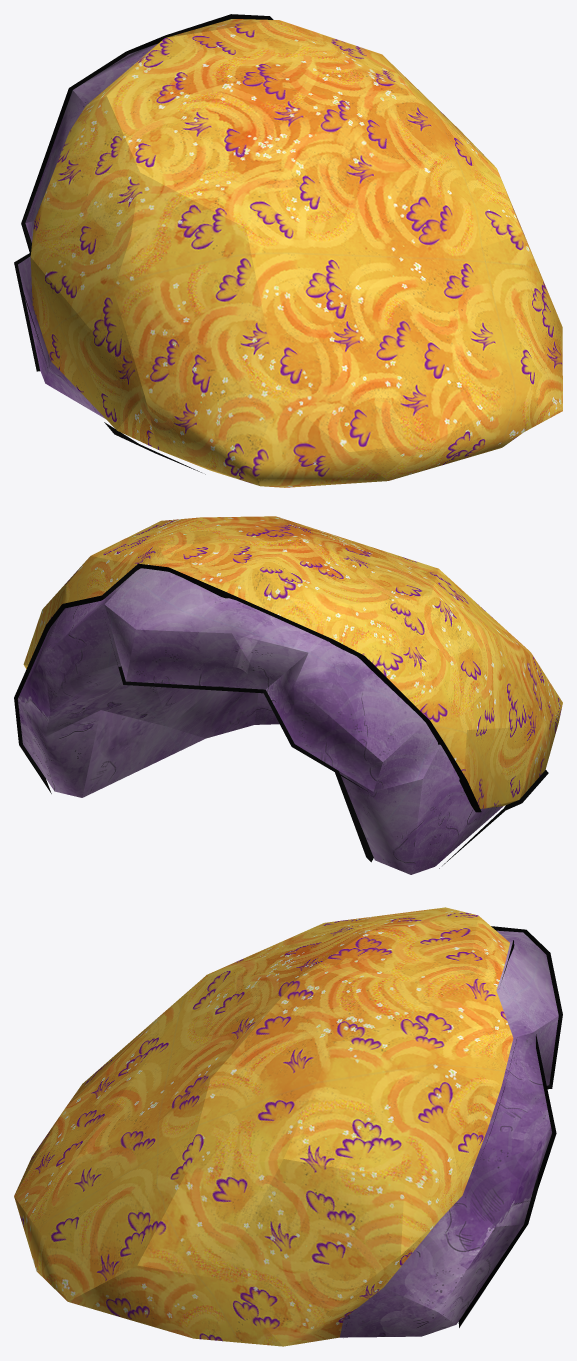
The model's file is s0_Shelter_01__1__01.glb.
3 views of the same model, one above another, from view 1: azimuth 30°, elevation 25°; view 2: azimuth 150°, elevation 25°; view 3: azimuth 270°, elevation 25° (orthographic). The views are drawn at different scales.
Parts seen in each view (by area): view 1: node_Shelter_01 (1); view 2: node_Shelter_01 (1); view 3: node_Shelter_01 (1).
Part boxes in pixels (x1=…): node_Shelter_01 (1): x1=14, y1=14, x2=562, y2=487; node_Shelter_01 (1): x1=14, y1=516, x2=562, y2=874; node_Shelter_01 (1): x1=14, y1=907, x2=562, y2=1346.
Size of what is drawn, in the model's own units: 2.63 by 1.62 by 2.66.
Materials: 3 (2 with a texture image).
